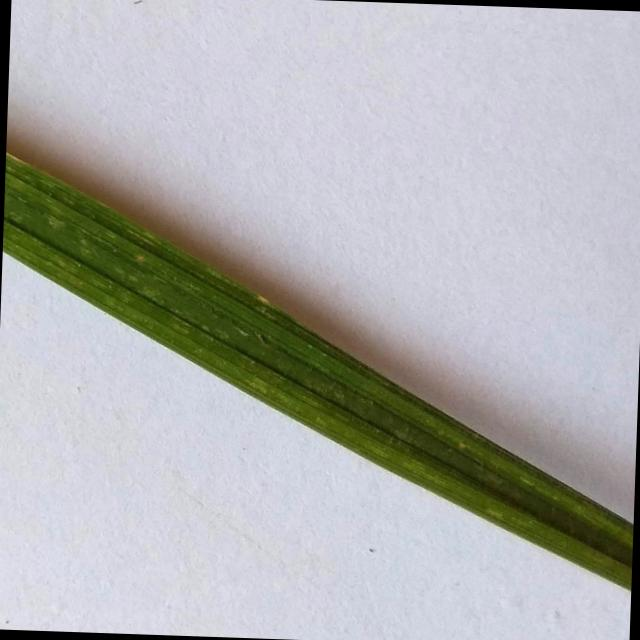Rice_Healthy: (2, 155, 633, 588)
